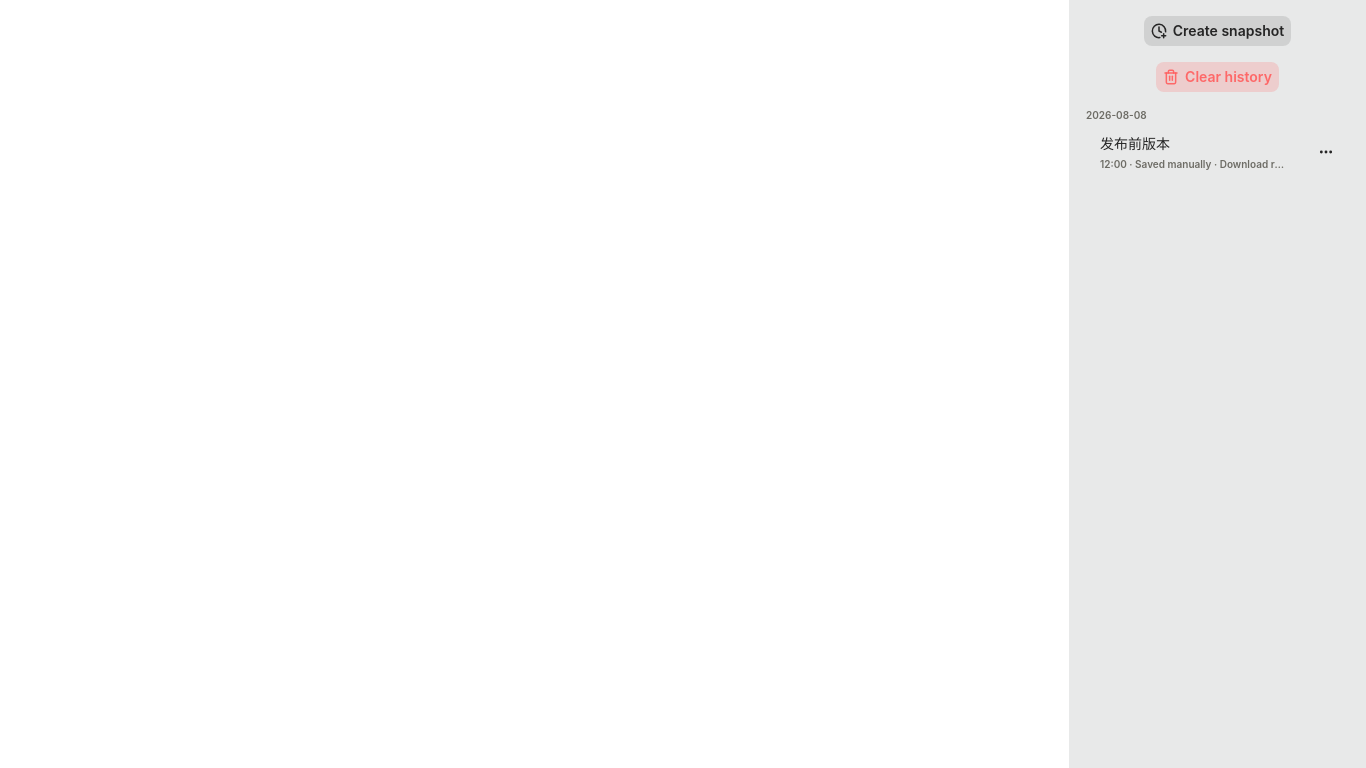
Test: HistoryPanel › opens the same action menu by right-clicking a history row
Right-click the element with class "history-row" at (1218, 152), box [1085,130,1350,174]
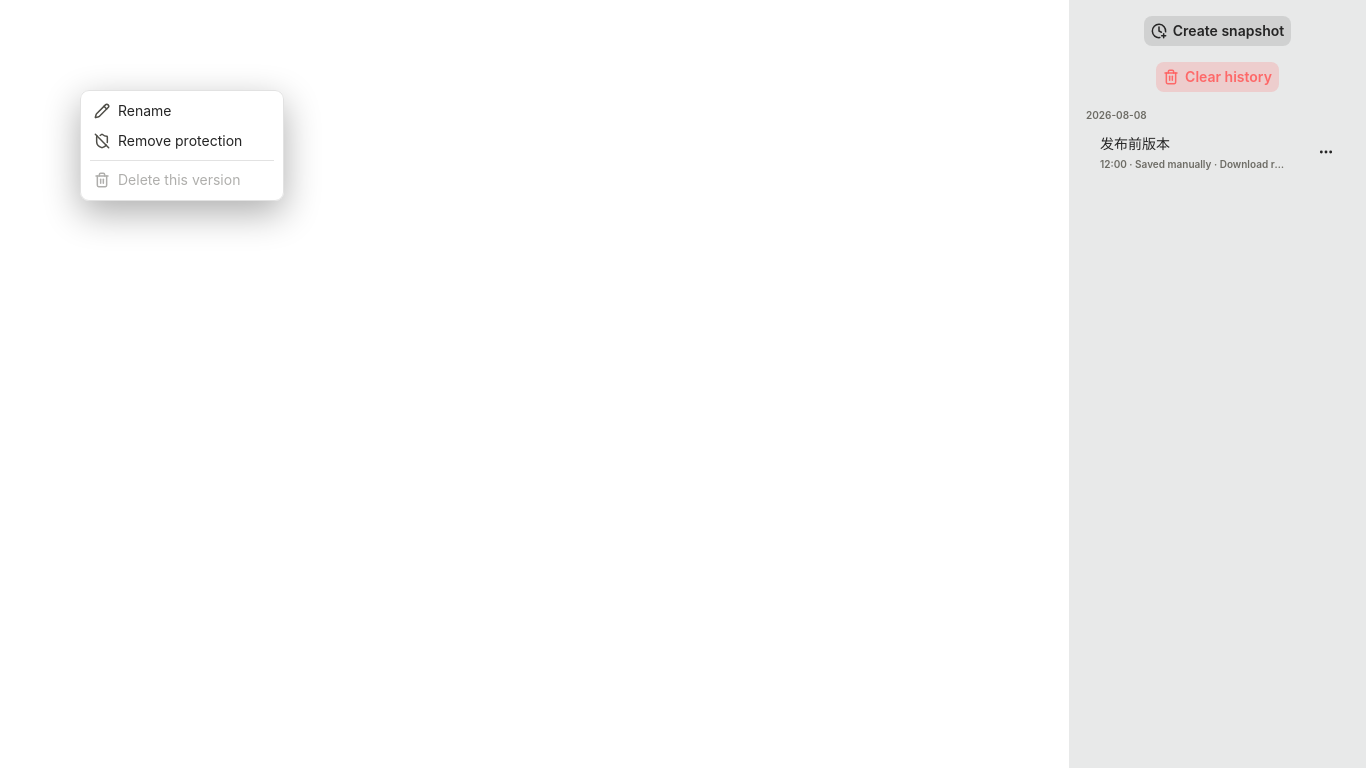
Result: the element with class "history-context-menu" is shown at [80,90,284,201]
